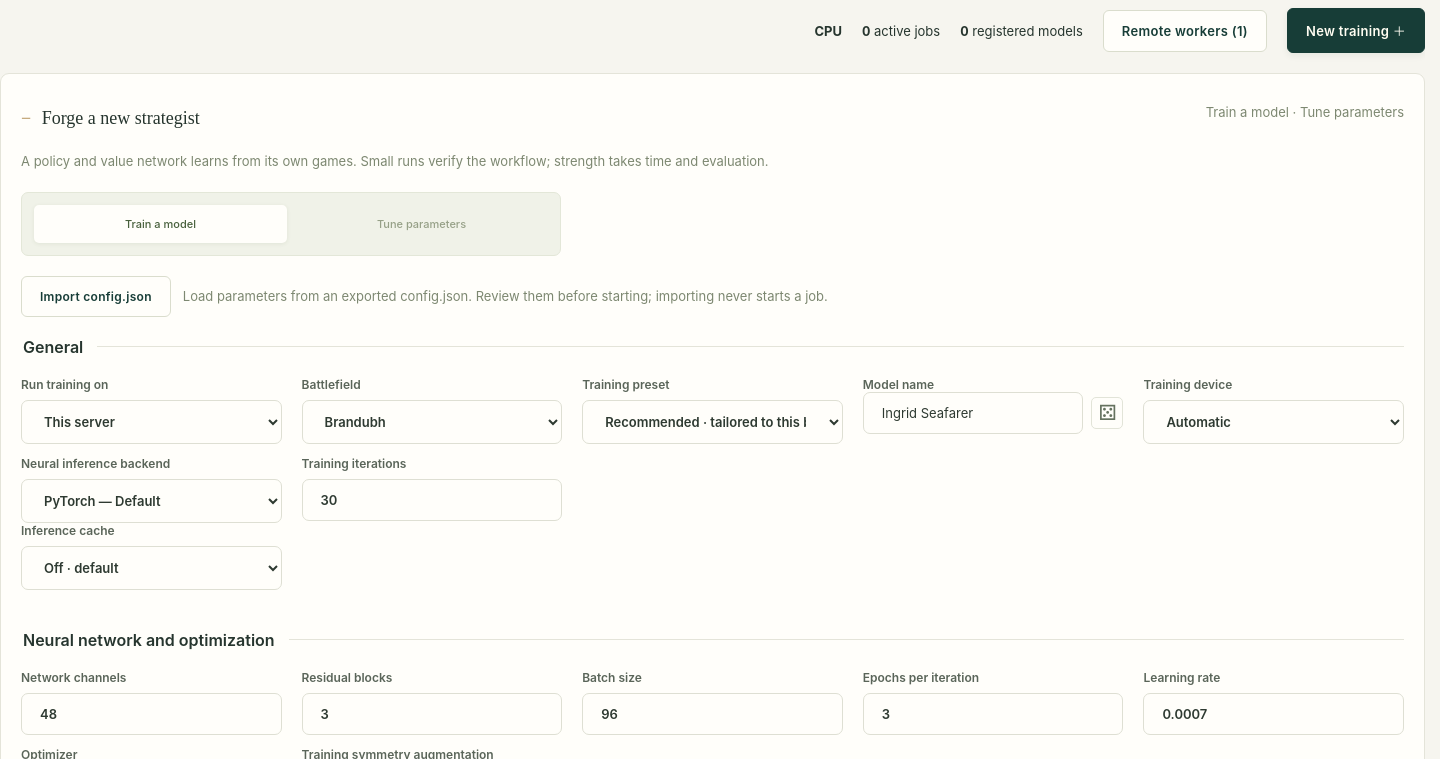
Test case: queues GPU training on a remote worker even when the server only has a CPU
Select "Cloud raven · online · 0/2 · Compatible" in the dropdown labelled "Run training on": (151, 422) [21, 400, 282, 444]
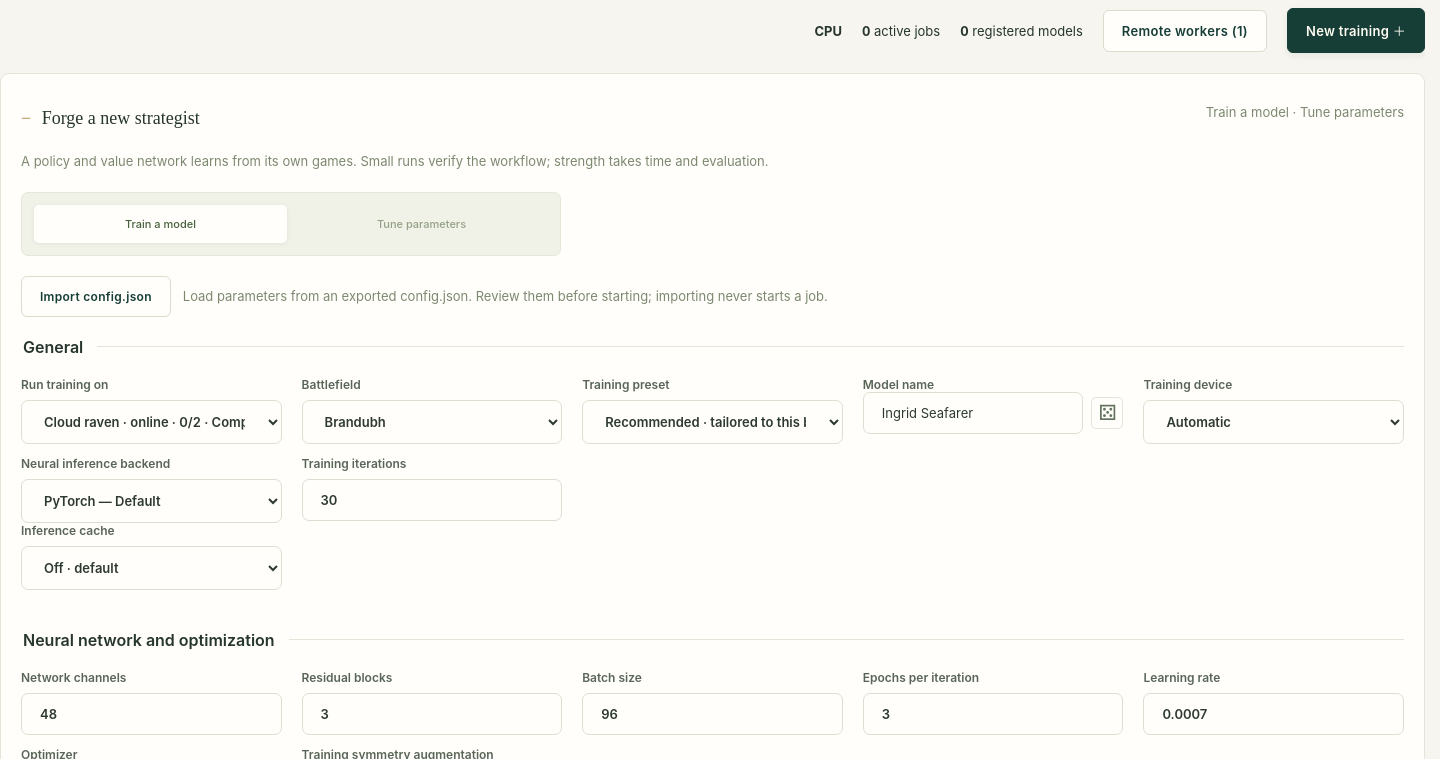
Select "NVIDIA CUDA" in the dropdown labelled "Training device": (1274, 422) [1143, 400, 1404, 444]
(page scrolled)
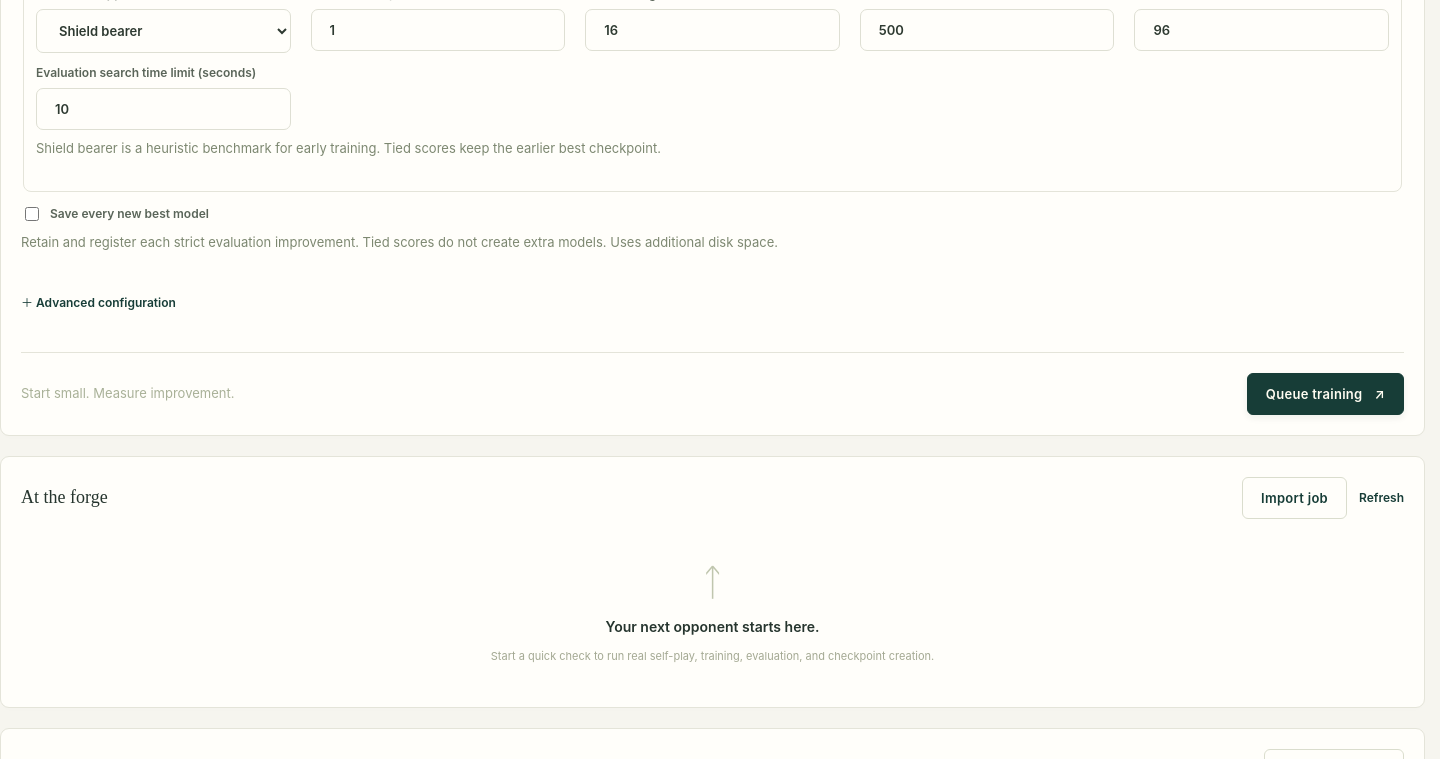
Click the button "Queue training ↗": (1325, 394) [1247, 373, 1404, 415]
(page scrolled)
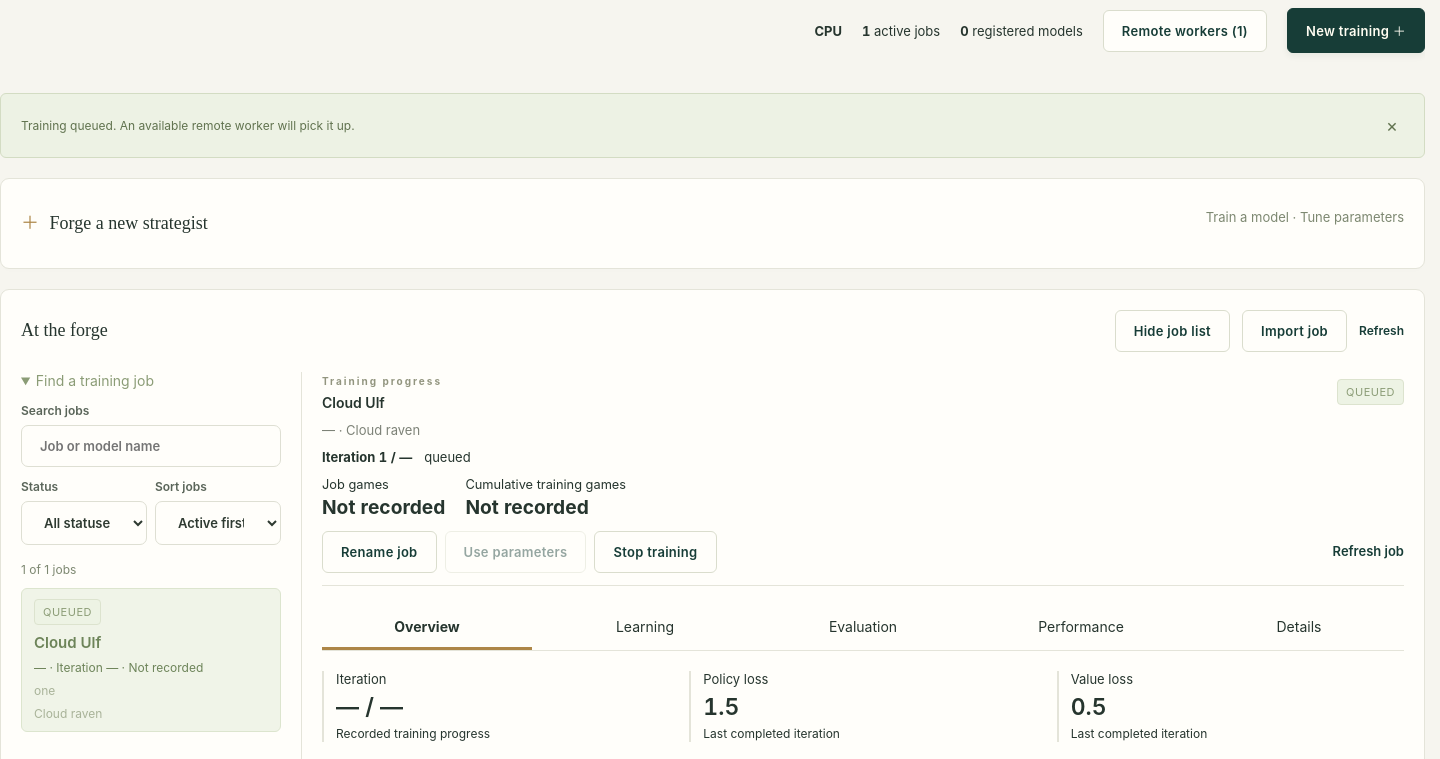
Expected: the text "Training queued. An available remote worker will pick it up." is shown, [21, 118, 355, 133]
Click the button "New training ＋": (1356, 30) [1287, 8, 1425, 53]
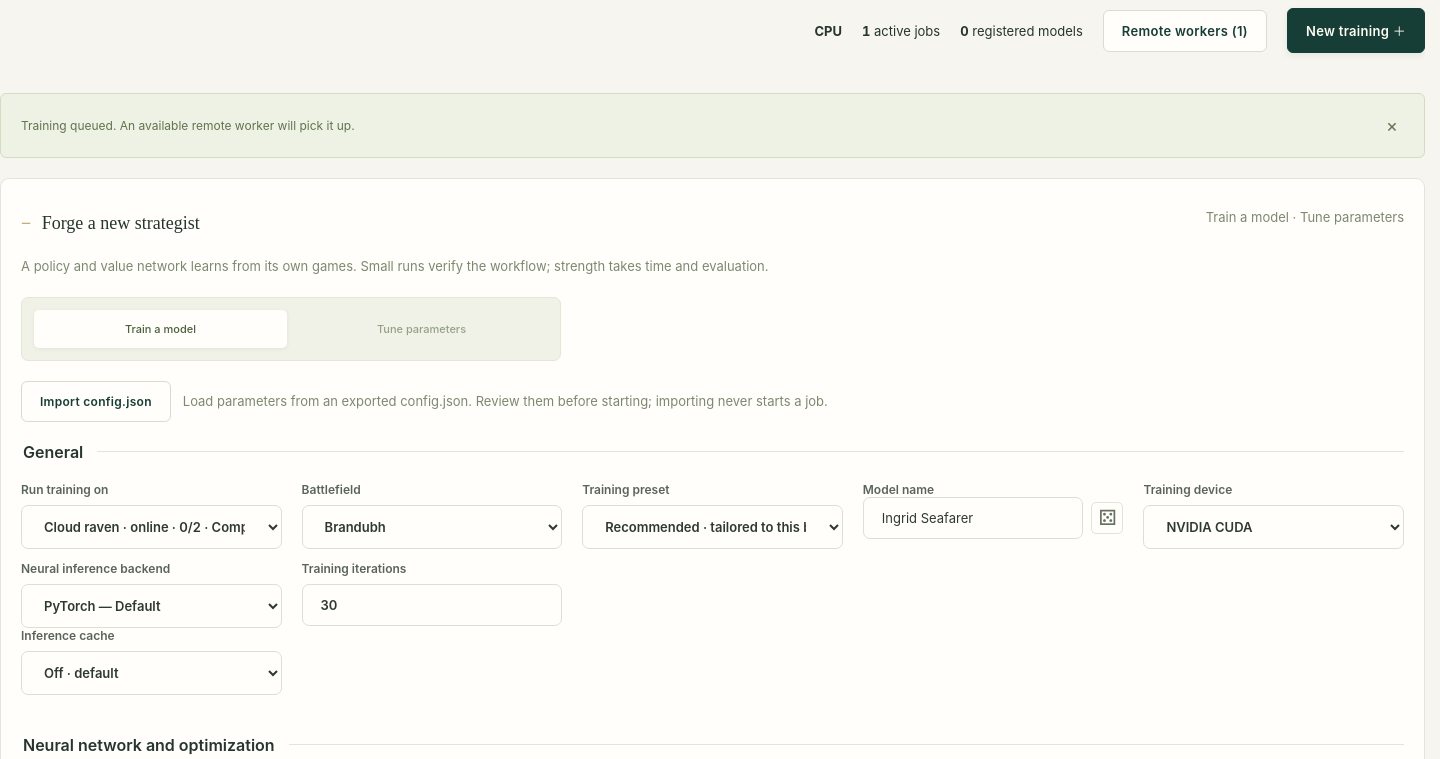
Click the button "Tune parameters": (422, 329) [295, 310, 548, 348]
(page scrolled)
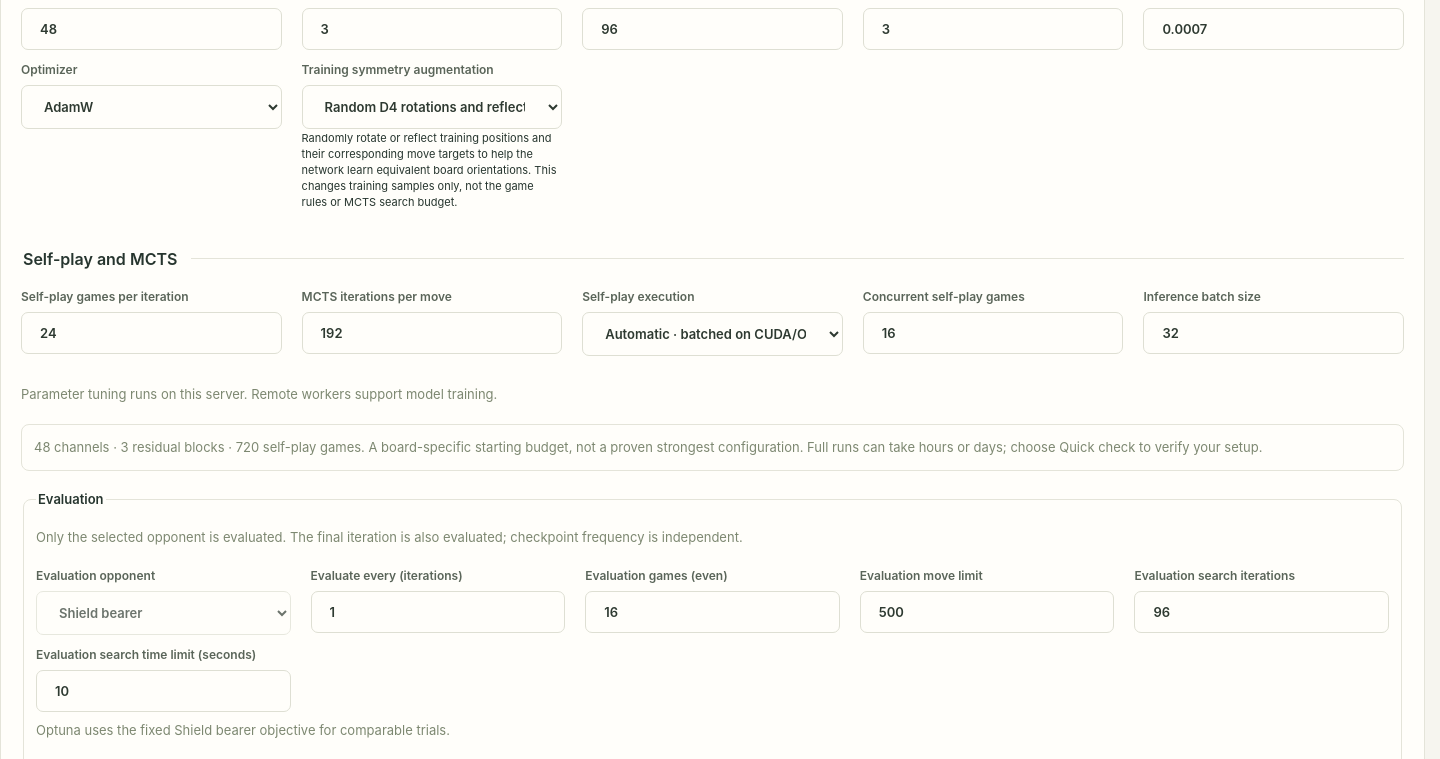
Expected: the text "Parameter tuning runs on this server. Remote workers support model training." is shown, [21, 386, 497, 402]
